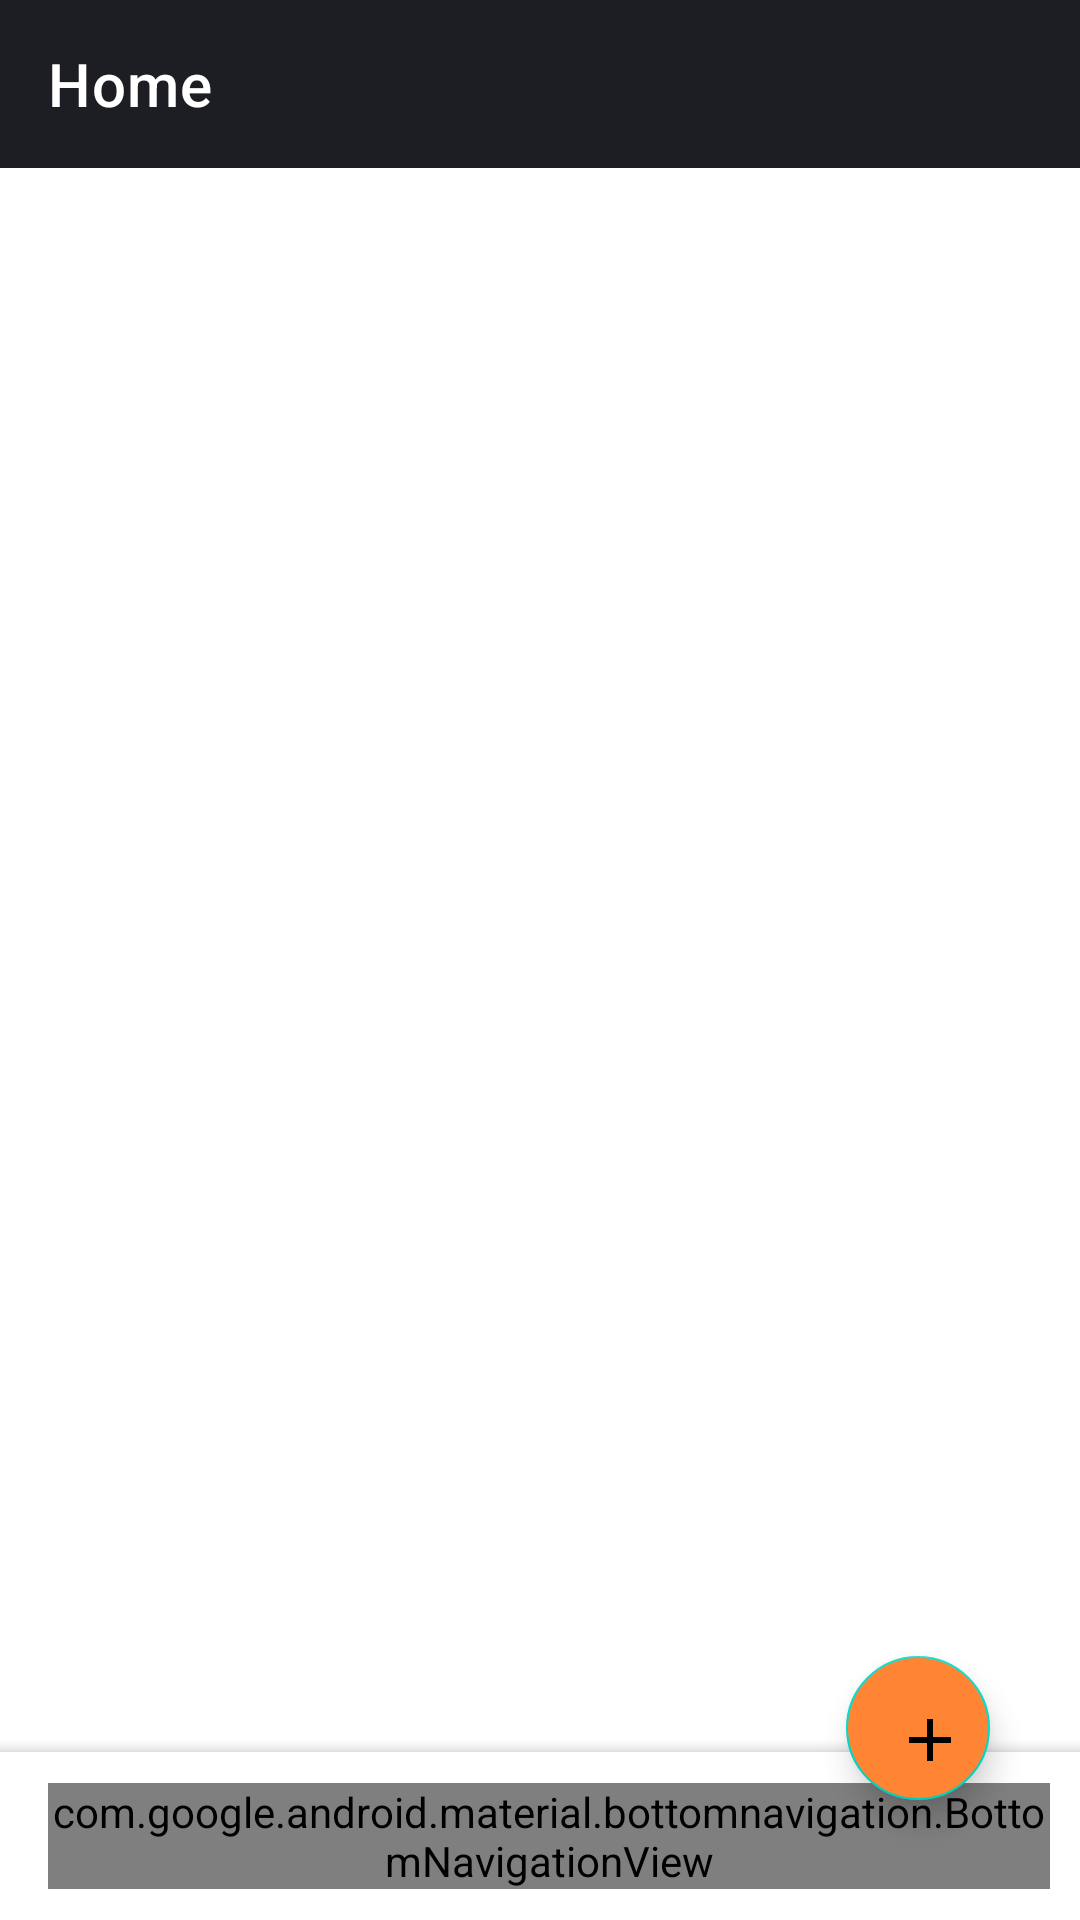

Locate icon controls on the screen. Image size 1080px×1920px, boxes as {"left": x1, "top": y1, "right": x2, "bottom": y2}.
add: {"left": 846, "top": 1656, "right": 990, "bottom": 1800}
